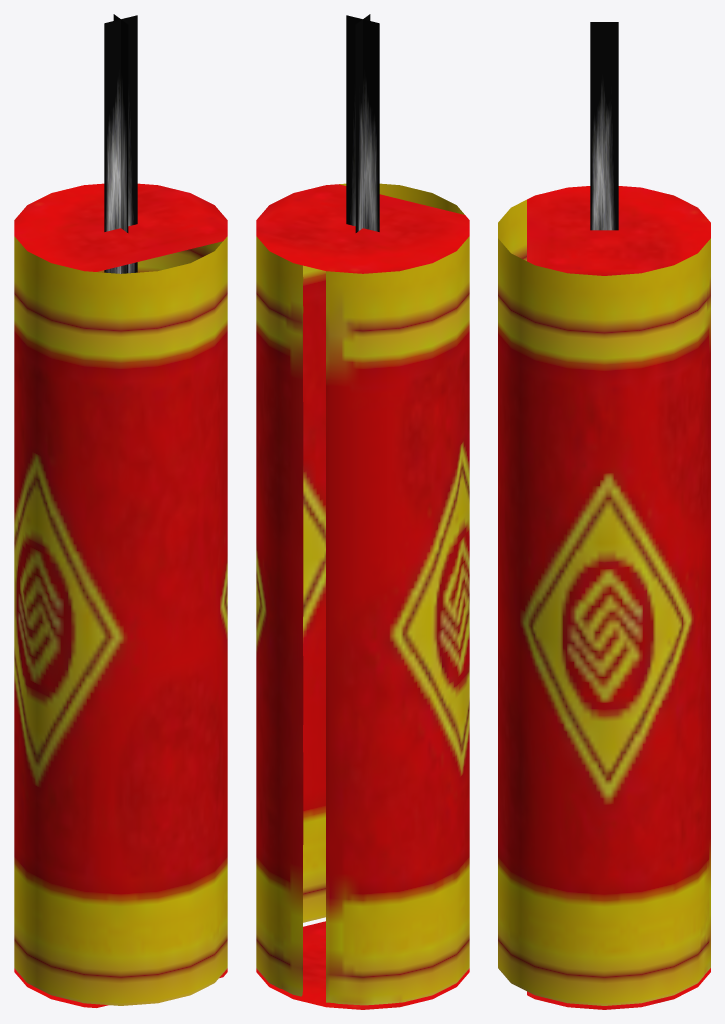
The model's file is hd_banger_d_55_11_4801out.fbx.
3 renders of one model, left to right at view 1: azimuth 30°, elevation 25°; view 2: azimuth 150°, elevation 25°; view 3: azimuth 270°, elevation 25°, orthographic.
Parts seen in each view (by area): view 1: hd_banger_d, lachangpian; view 2: hd_banger_d, lachangpian; view 3: hd_banger_d, lachangpian.
Boxes of the visible parts, box(x1,y1,x2,y2) form: hd_banger_d: box(14, 183, 227, 1007); lachangpian: box(104, 14, 137, 273); hd_banger_d: box(256, 183, 469, 1009); lachangpian: box(346, 14, 379, 232); hd_banger_d: box(498, 186, 710, 1009); lachangpian: box(590, 22, 618, 230).
Bounding box in the file's own units: 0.12 × 0.5777 × 0.1182.
